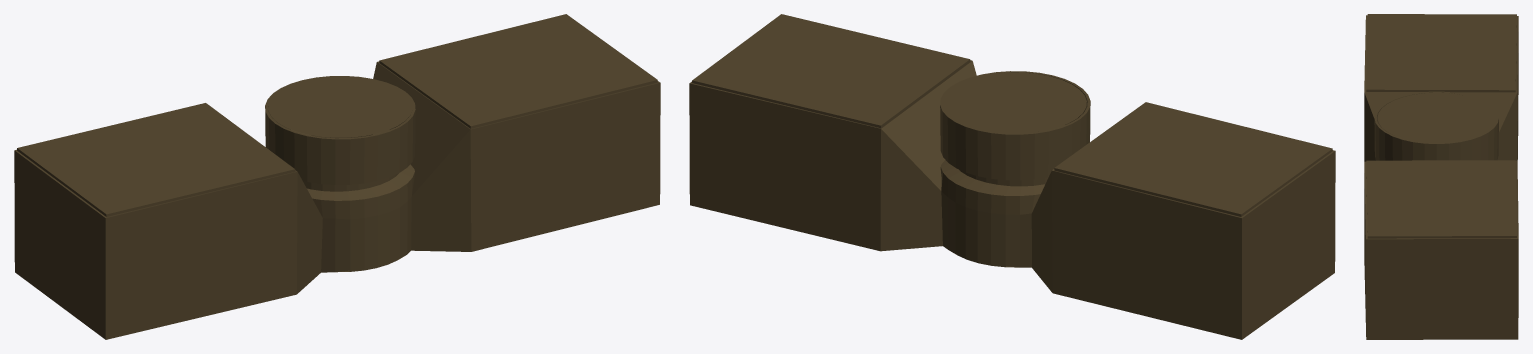
File: map.fbx
3 views of the same model, side by side, from view 1: azimuth 30°, elevation 25°; view 2: azimuth 150°, elevation 25°; view 3: azimuth 270°, elevation 25° (orthographic). The views are drawn at different scales.
Visible parts, largest first — view 1: fee, celing.001, celing; view 2: fee, celing.001, celing; view 3: celing.001, fee, celing.
Boxes of the visible parts, x1,y1,x2,y2 form: fee: [14, 61, 660, 339]; celing.001: [17, 14, 657, 216]; celing: [268, 76, 412, 137]; fee: [689, 60, 1335, 339]; celing.001: [692, 14, 1332, 216]; celing: [942, 72, 1086, 133]; celing.001: [1366, 14, 1516, 238]; fee: [1364, 15, 1518, 339]; celing: [1377, 92, 1496, 143].
Size of the model in its own units: 9879 by 2301 by 2881.
